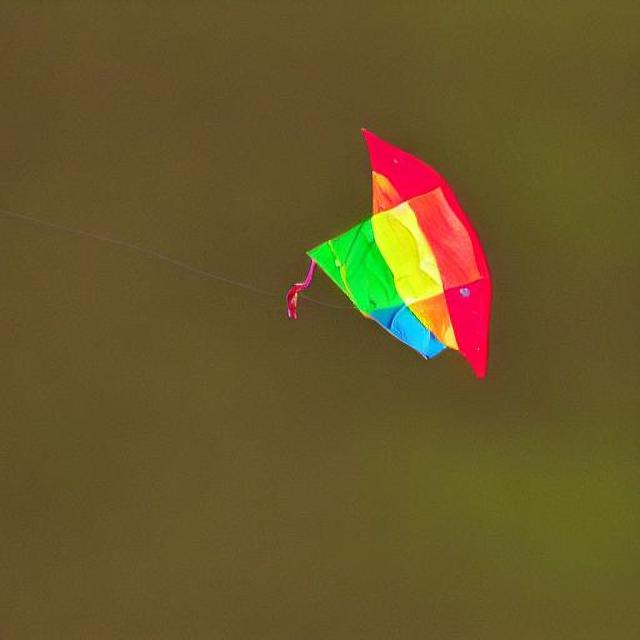floating object: (289, 124, 491, 362)
